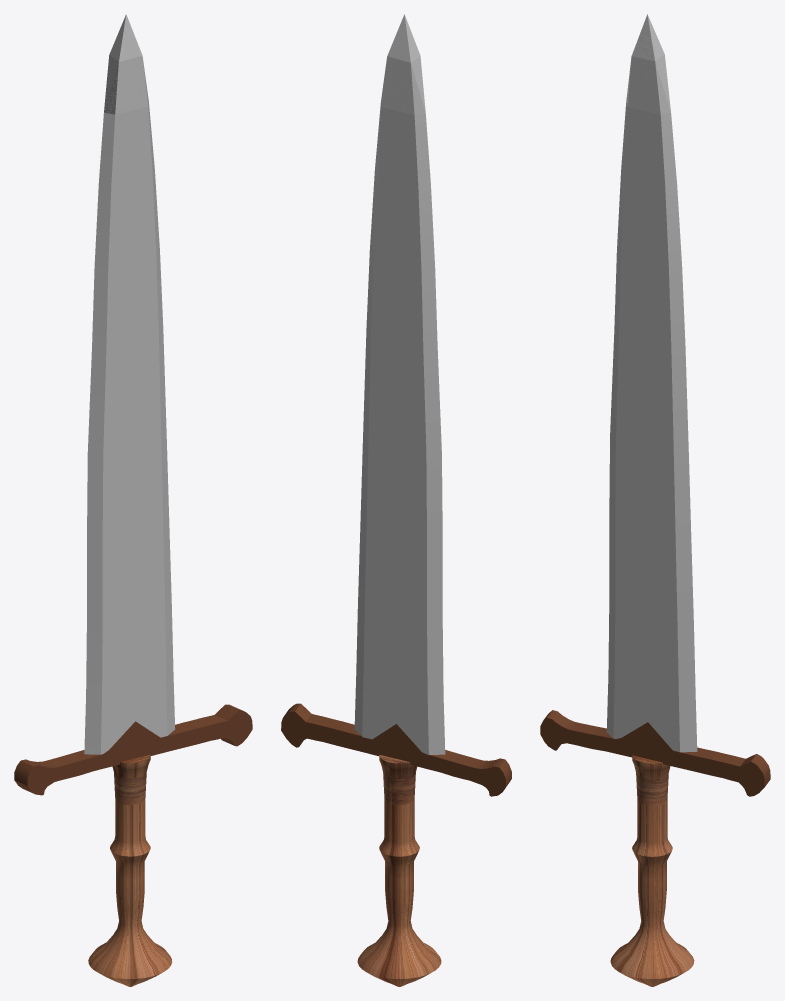
File: sword.fbx
The picture shows the model from 3 angles, left to right: view 1: azimuth 30°, elevation 25°; view 2: azimuth 150°, elevation 25°; view 3: azimuth 330°, elevation 25°; orthographic projection.
Parts seen in each view (by area): view 1: Plane; view 2: Plane; view 3: Plane.
Boxes of the visible parts, x1,y1,x2,y2 form: Plane: (14,14,252,986); Plane: (281,14,511,986); Plane: (540,14,770,986).
Size of the model in its own units: 116 by 472 by 36.89.
